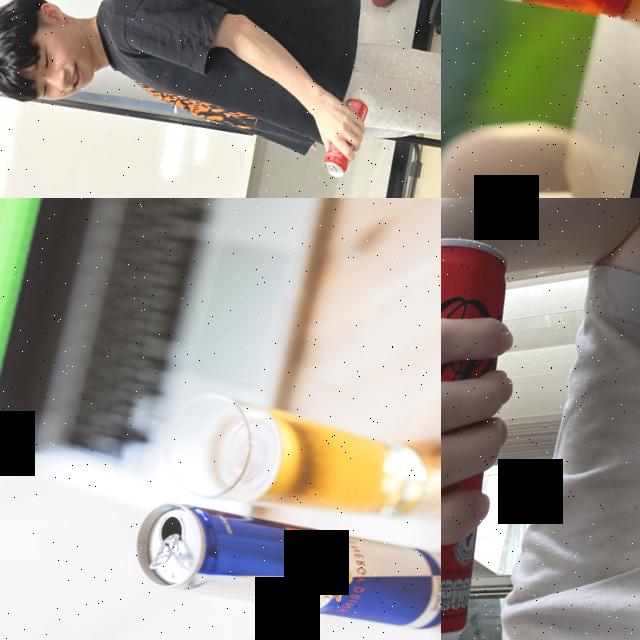can: (127, 489, 441, 640), (441, 217, 553, 640), (321, 94, 370, 179)
cup: (441, 0, 640, 44)
